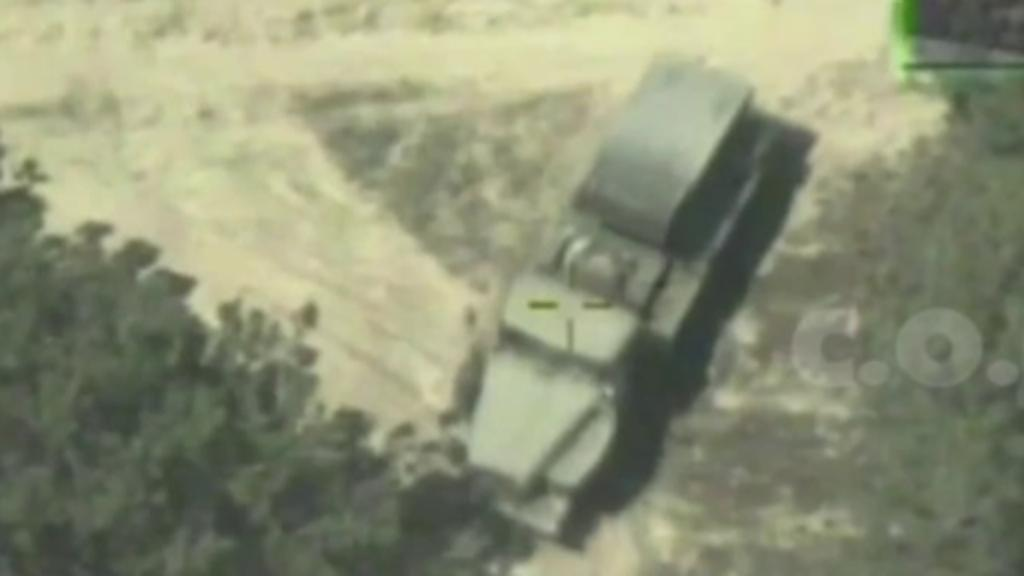MLRS: (428, 48, 784, 528)
